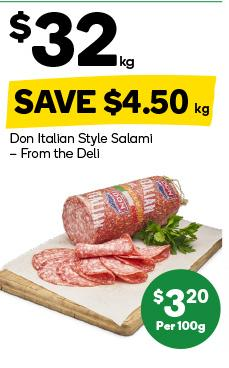description_block: (2, 128, 155, 164)
price_main: (4, 7, 153, 71)
product_image_block: (3, 168, 225, 301)
promo_text_block: (1, 76, 217, 131)
